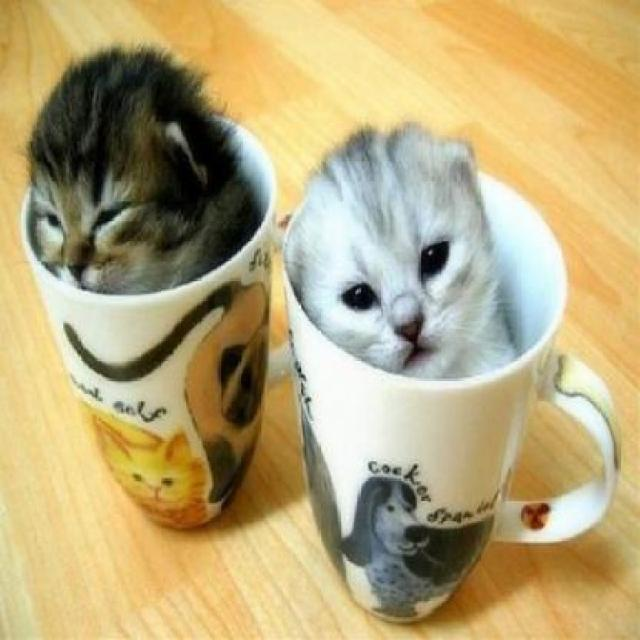cat: (284, 121, 525, 382), (28, 41, 261, 293)
